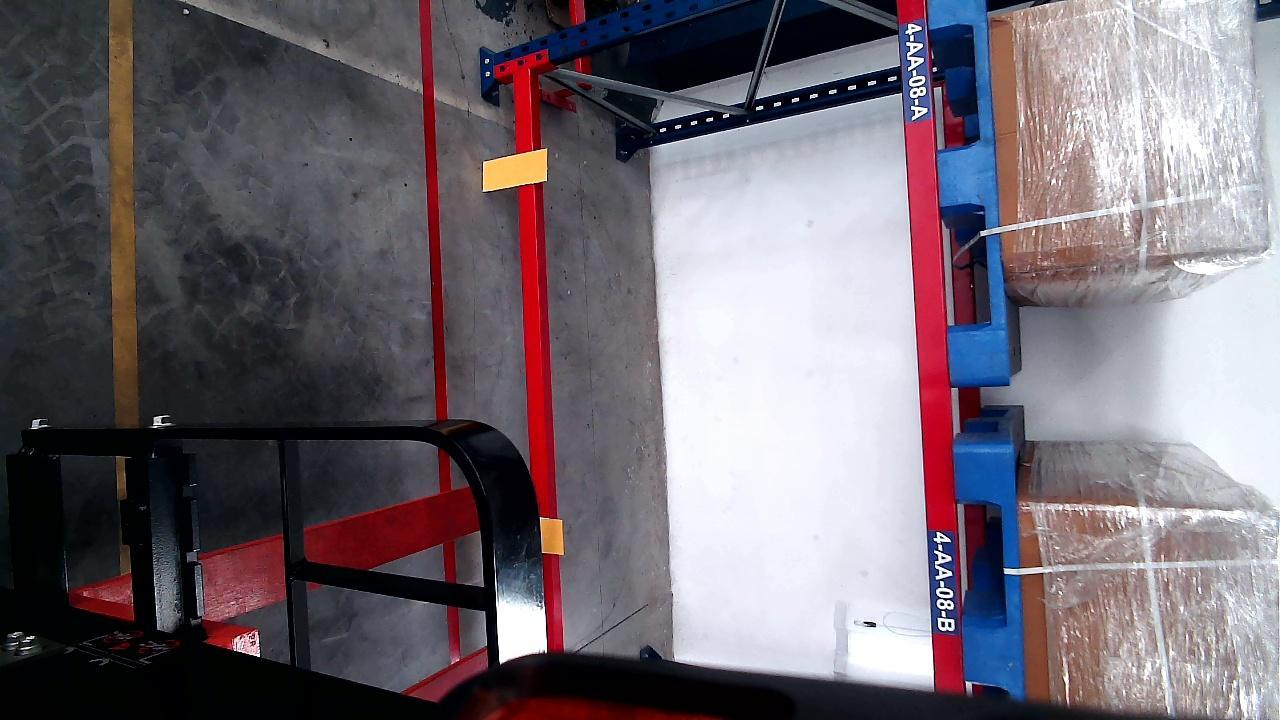red_line: (419, 0, 464, 657)
yellow_line: (109, 0, 139, 424)
